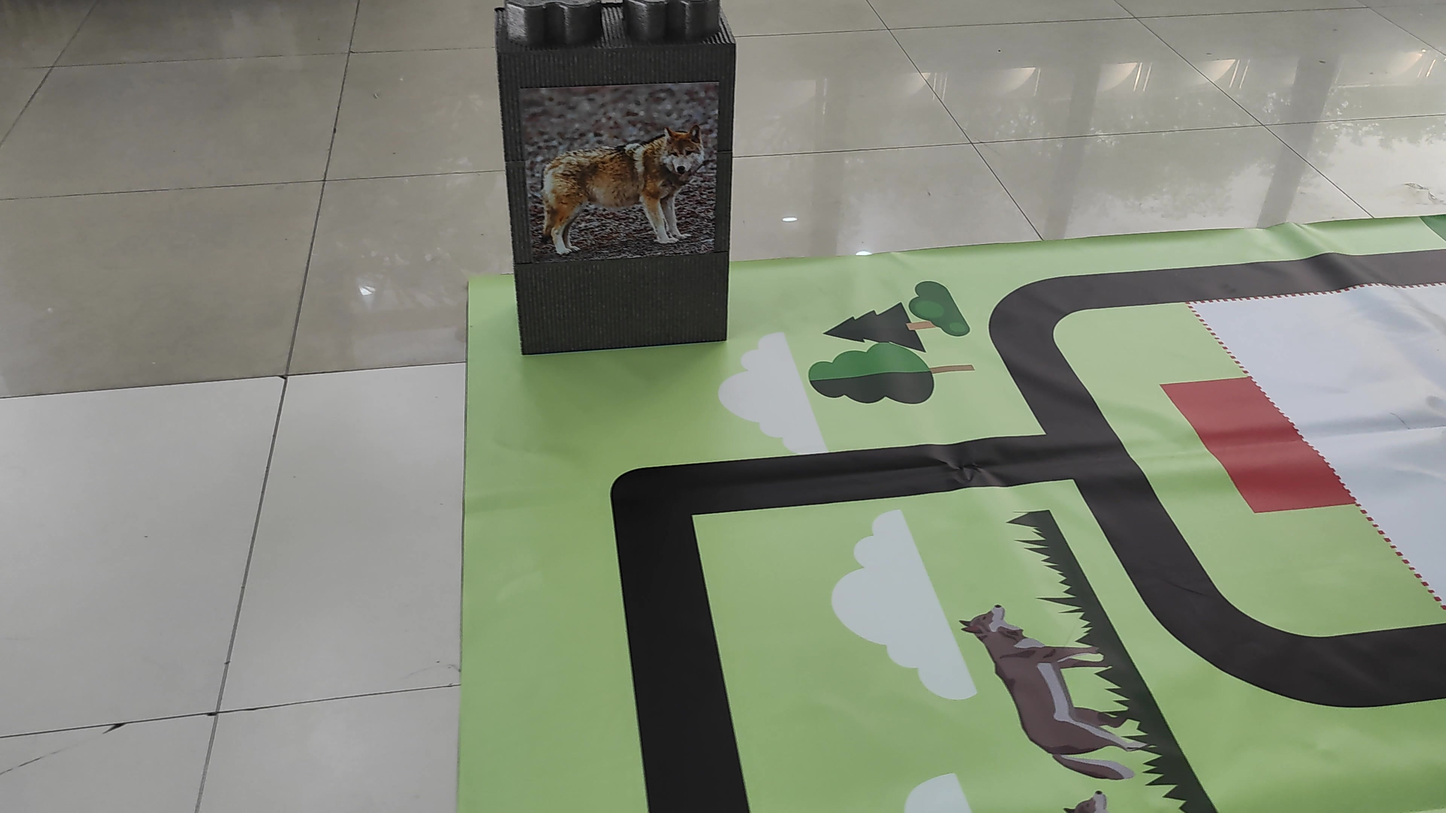wolf: (529, 90, 700, 254)
